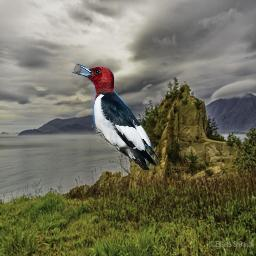Woodpecker: (71, 61, 161, 170)
